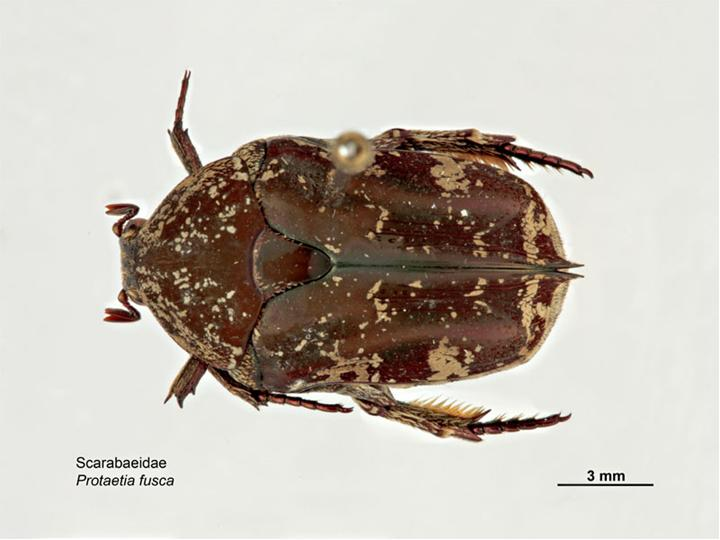Protaetia_fusca: (103, 59, 605, 438)
